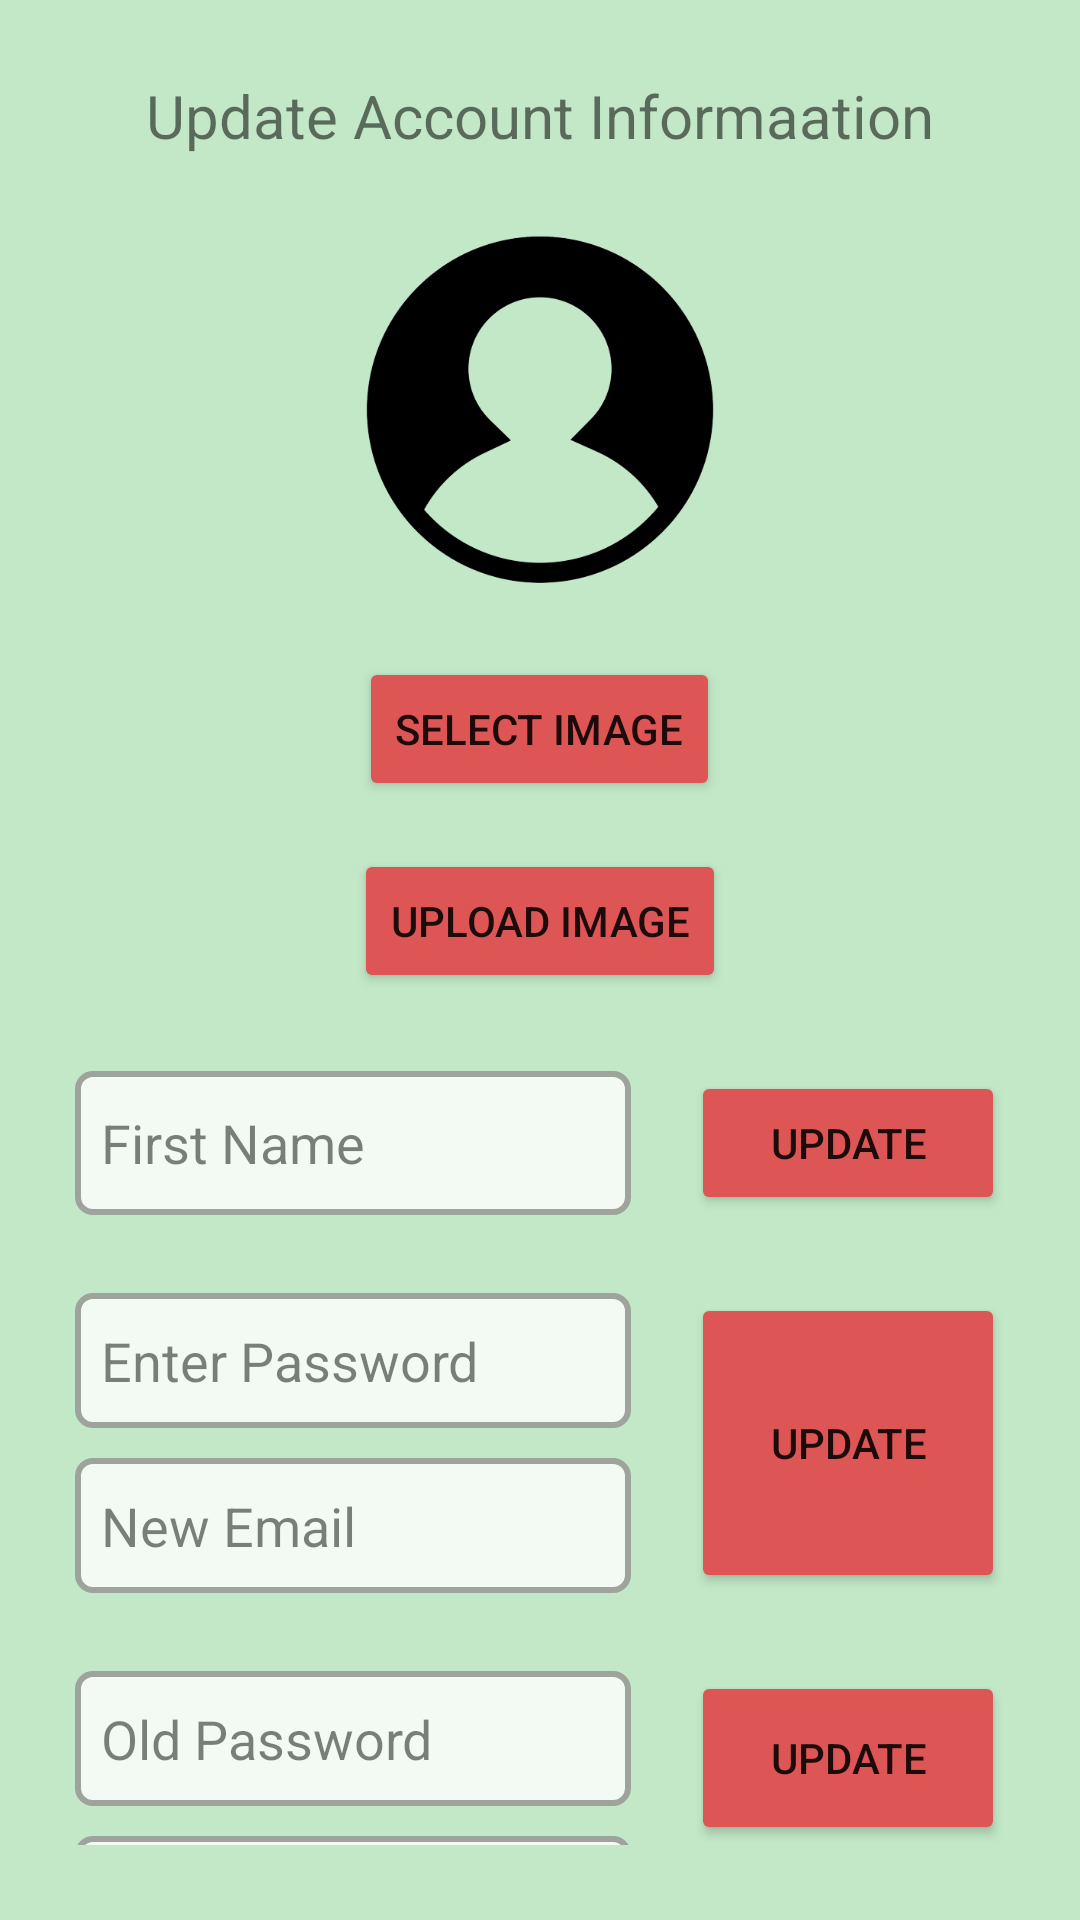

Point at icon controls on the screen. Image size 1080*1920, points as (x,y).
profile: (540,409)
